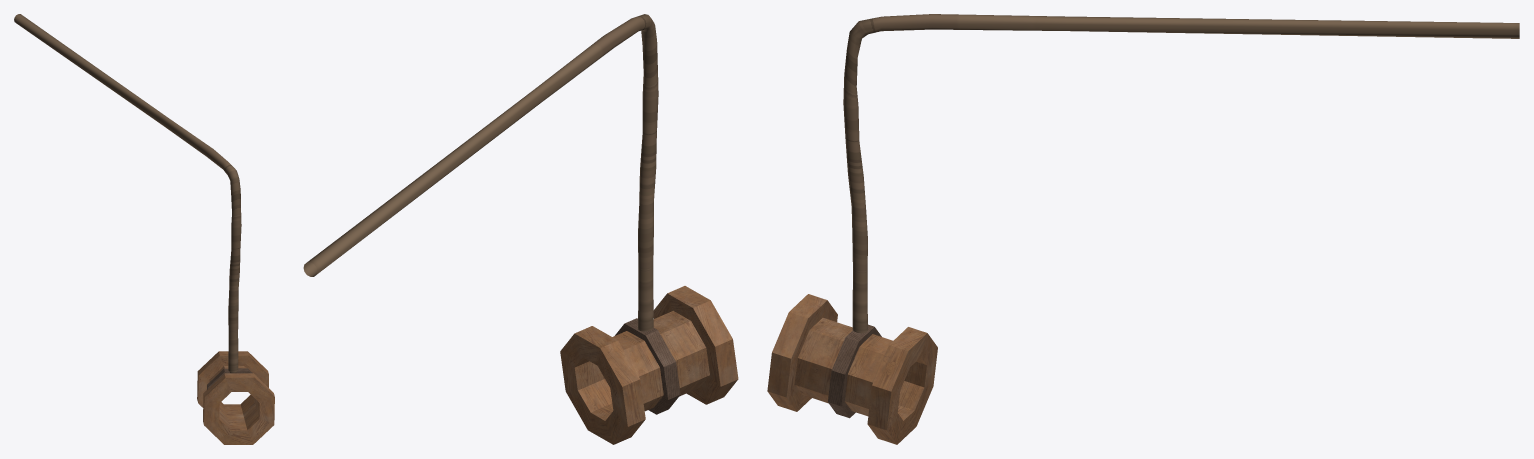
File: CarreteVacio.fbx
The picture shows the model from 3 angles, left to right: view 1: azimuth 30°, elevation 25°; view 2: azimuth 150°, elevation 25°; view 3: azimuth 270°, elevation 25°; orthographic projection. The views are drawn at different scales.
Visible parts, largest first — view 1: RolloTela.004, Cuerda; view 2: RolloTela.004, Cuerda; view 3: RolloTela.004, Cuerda.
Part boxes in pixels (x1=…): RolloTela.004: x1=197, y1=351, x2=274, y2=444; Cuerda: x1=14, y1=14, x2=241, y2=373; RolloTela.004: x1=560, y1=286, x2=738, y2=444; Cuerda: x1=303, y1=14, x2=658, y2=331; RolloTela.004: x1=767, y1=294, x2=937, y2=444; Cuerda: x1=843, y1=14, x2=1519, y2=333.
Bounding box in the file's own units: 101 × 290 × 481.
2 materials, 2 textured.
